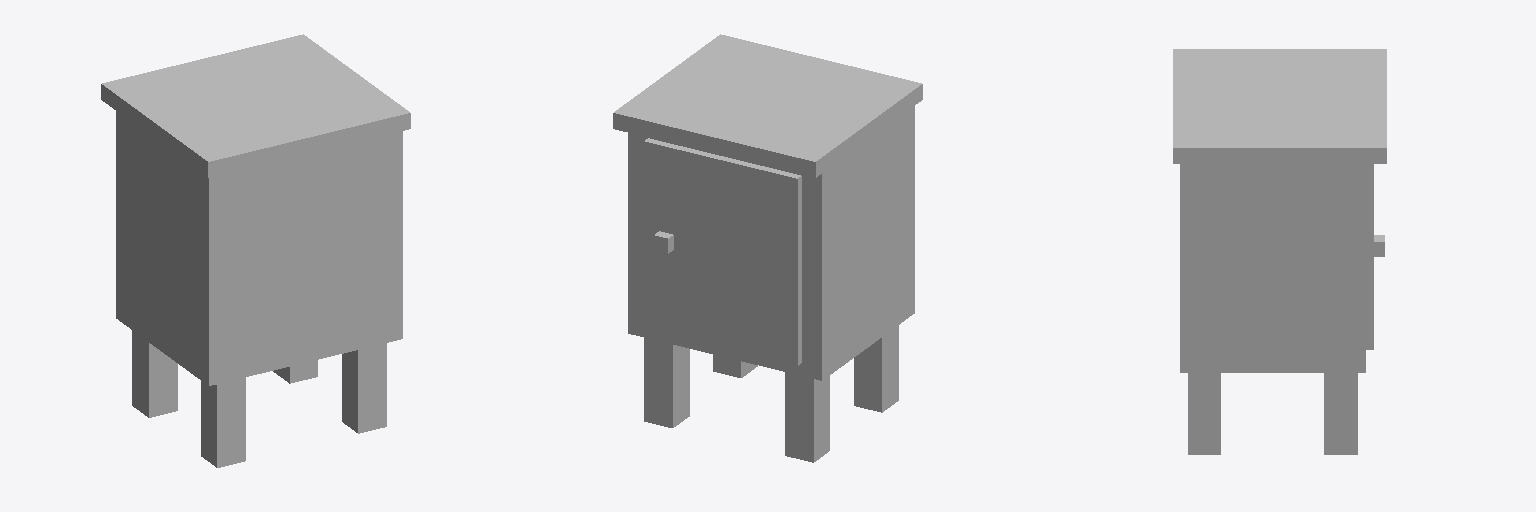
File: Night Stand.obj
The picture shows the model from 3 angles: view 1: azimuth 30°, elevation 25°; view 2: azimuth 150°, elevation 25°; view 3: azimuth 270°, elevation 25°; orthographic projection.
Parts seen in each view (by area): view 1: Night_Stand; view 2: Night_Stand; view 3: Night_Stand.
Boxes of the visible parts, x1,y1,x2,y2 form: Night_Stand: [101, 34, 410, 467]; Night_Stand: [613, 34, 922, 462]; Night_Stand: [1173, 49, 1386, 454].
Size of the model in its own units: 0.5944 by 0.8856 by 0.5457.